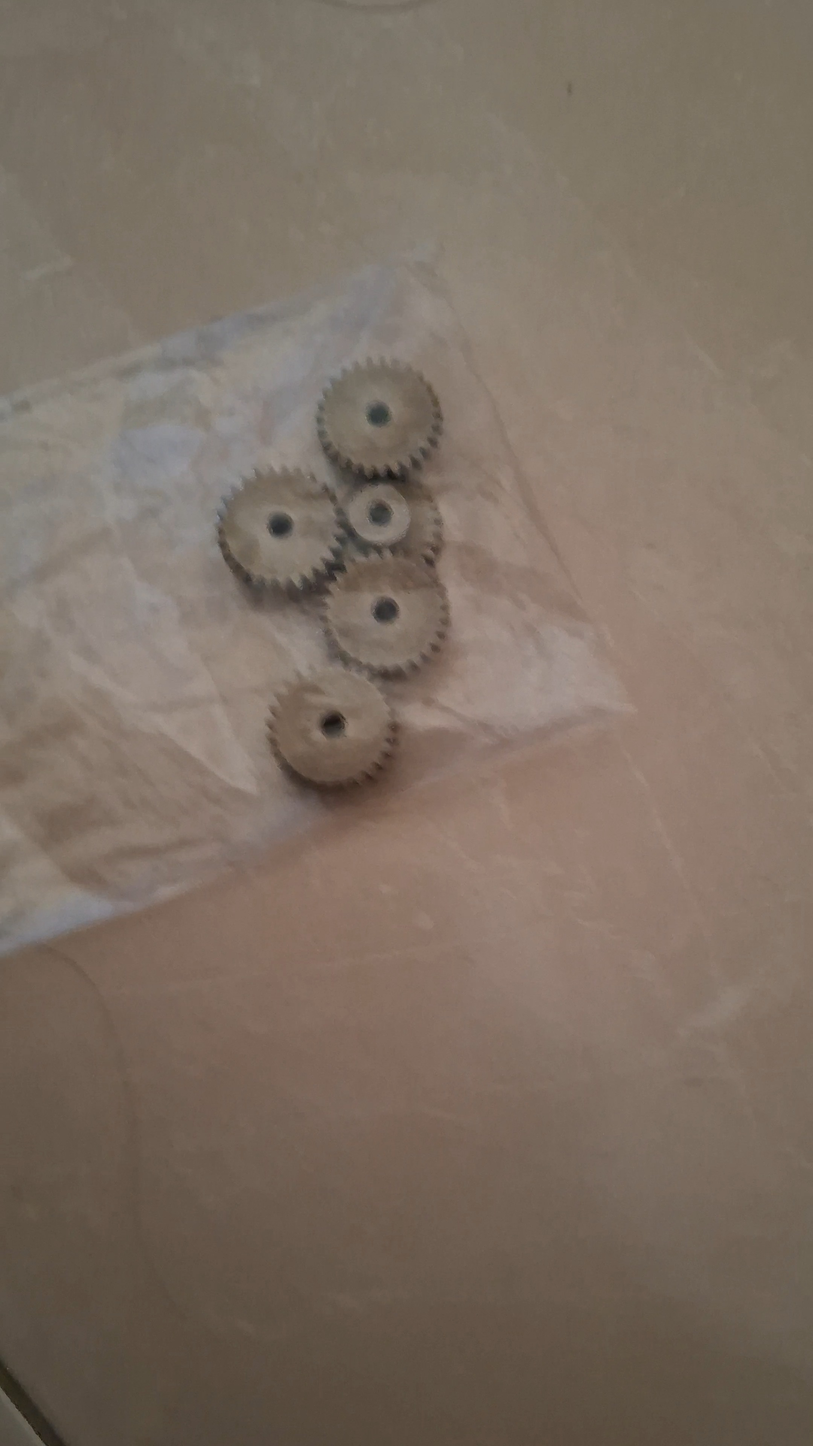spur gear: (218, 470, 343, 595), (268, 667, 396, 787), (324, 555, 449, 677), (317, 361, 442, 479), (339, 482, 443, 564)
